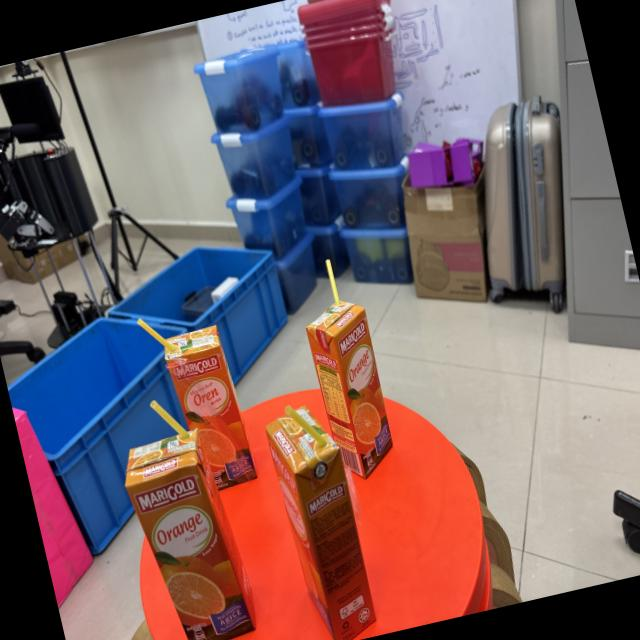drink_carton: (98, 376, 274, 640), (237, 375, 394, 640), (281, 236, 411, 489), (130, 290, 266, 507)
